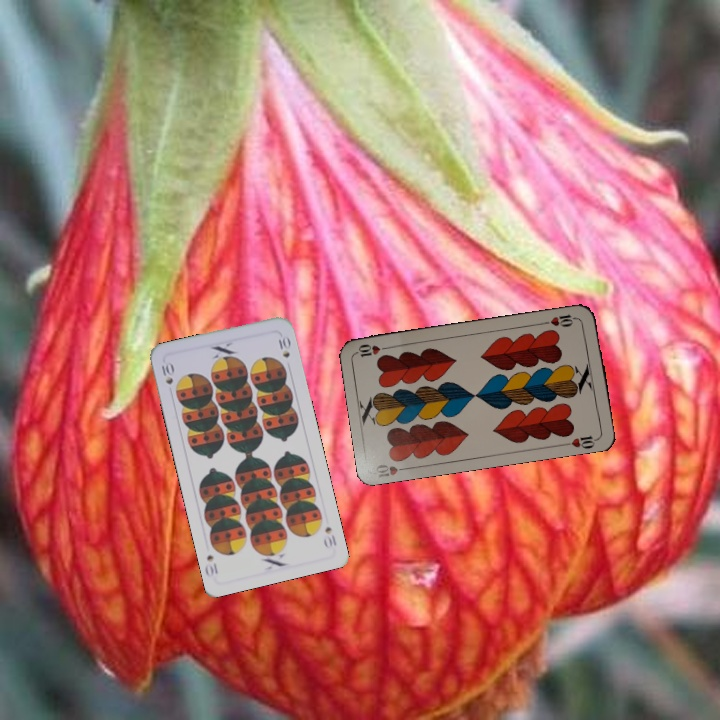H10: (540, 310, 581, 330), (371, 460, 412, 480)
S10: (157, 357, 176, 387), (321, 522, 339, 551)
